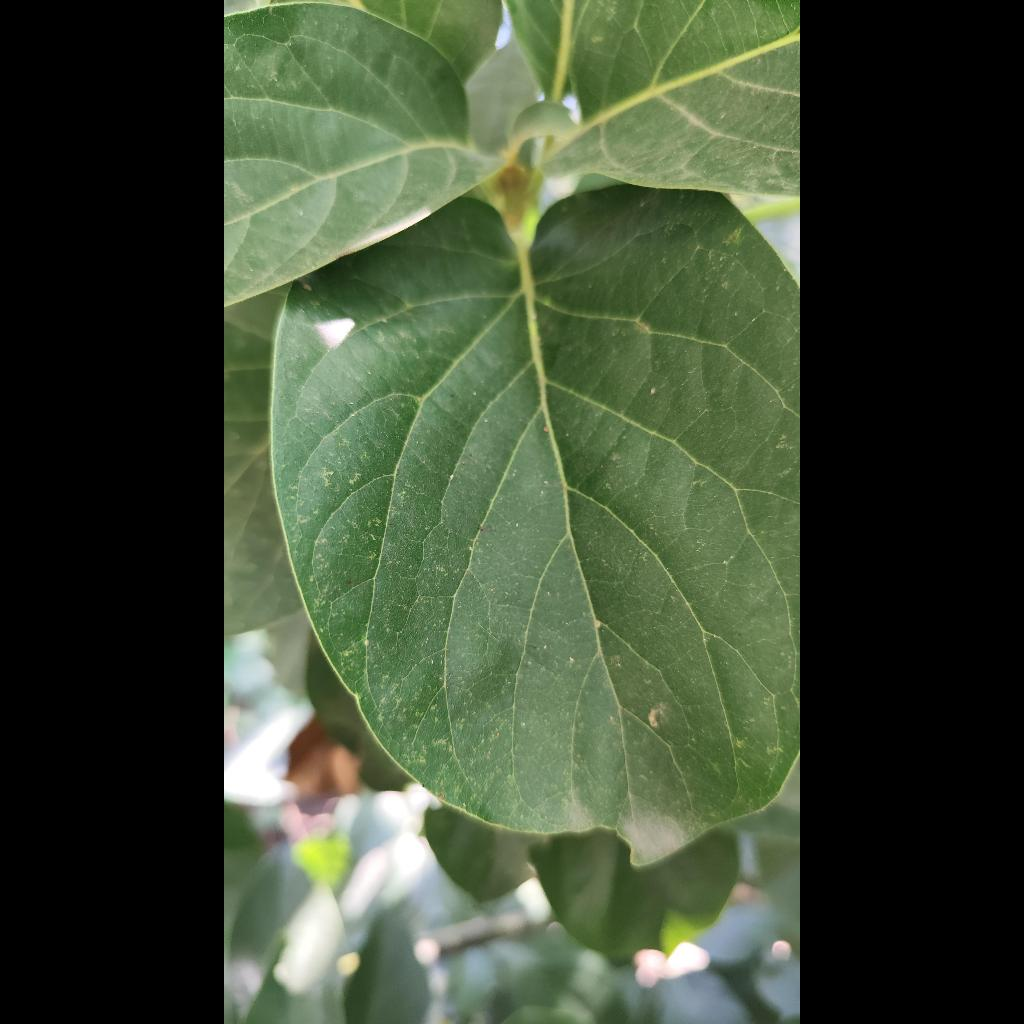Healthy: (320, 59, 344, 99), (512, 462, 514, 464)
